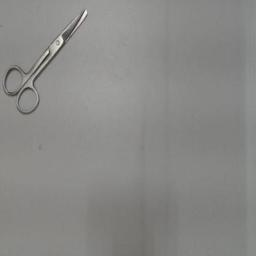Dressing Scissors: (0, 4, 94, 120)
